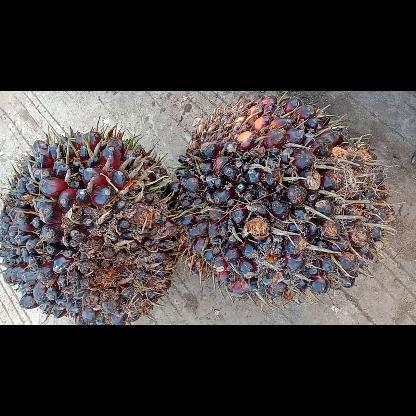TBS mentah: (173, 96, 391, 296), (0, 129, 177, 325)
